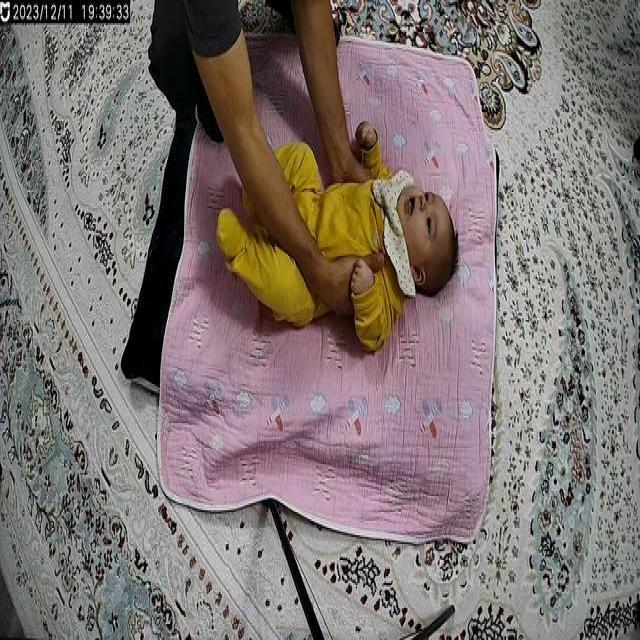baby: (202, 113, 465, 369)
